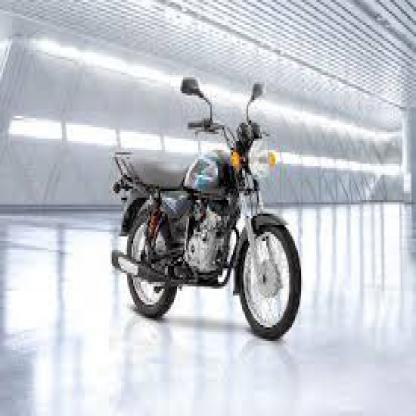Motorcycle: (109, 70, 306, 346)
